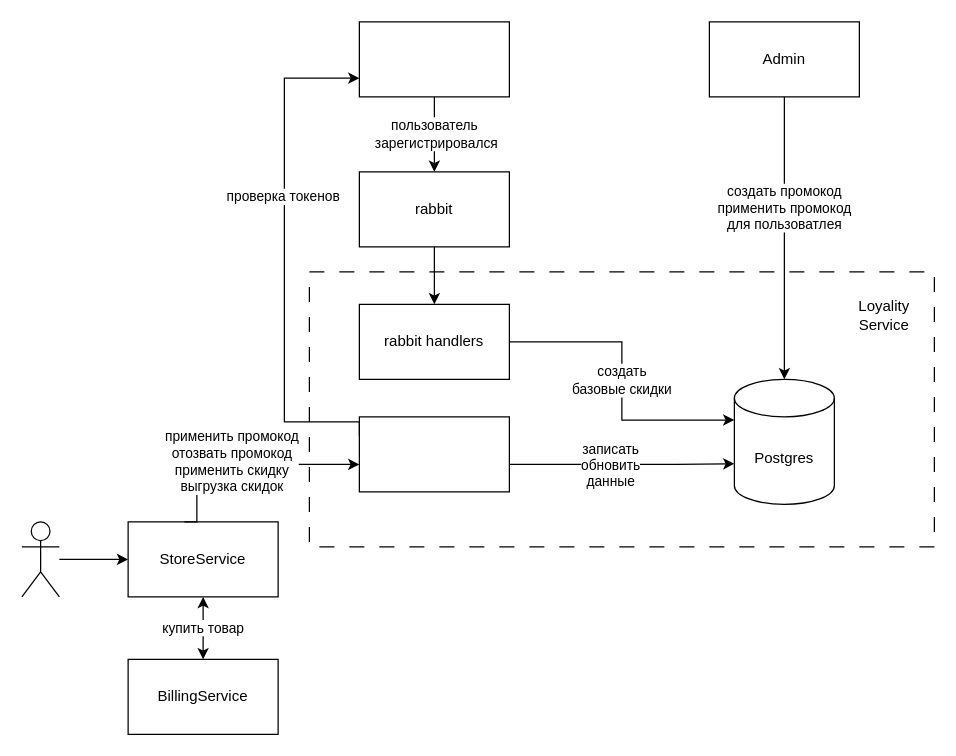
Image size: 956x756. Some labels were removed from this diagram. Each missing label, with the centre of its shape:
"Actor" belongs at point (40, 559).
"AuthService" belongs at point (433, 59).
"Loality System" belongs at point (433, 454).
